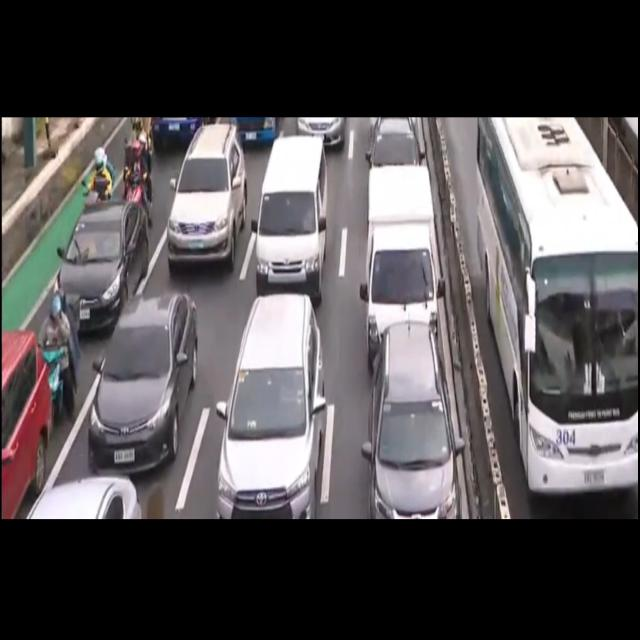Bus: (465, 114, 639, 514)
Motorcycle: (36, 292, 78, 425), (122, 122, 156, 245), (79, 141, 112, 200)
SUV: (225, 298, 325, 511), (366, 324, 462, 516), (167, 130, 245, 270), (0, 323, 51, 514)
Sedan: (93, 296, 199, 468), (54, 206, 151, 333)
Truck: (362, 166, 442, 375)
Van: (256, 139, 327, 298)
